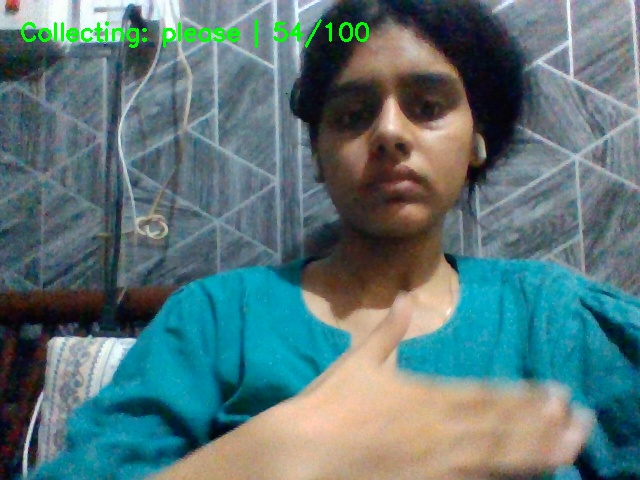please: (250, 269, 630, 480)
